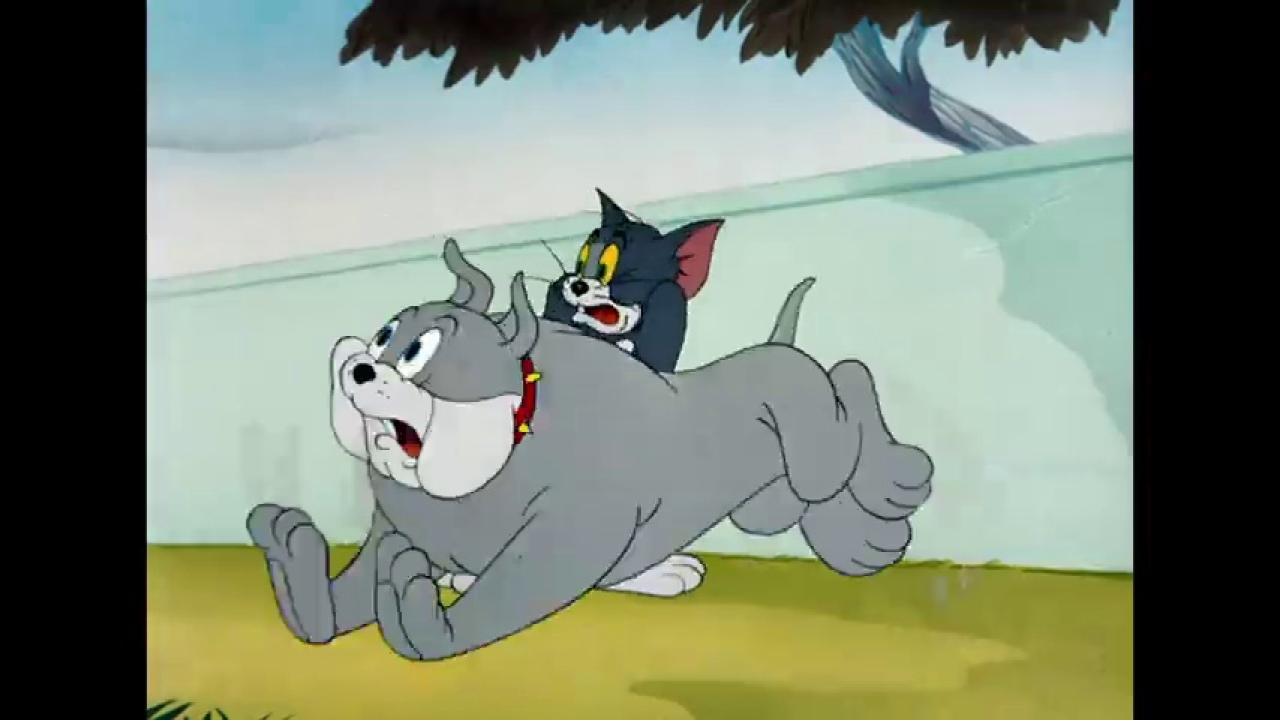Tom: (532, 183, 728, 600)
